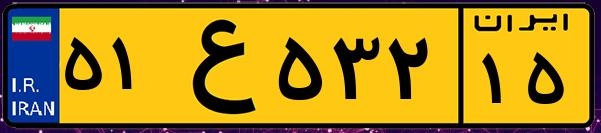1: (475, 38, 525, 113), (110, 28, 158, 98)
2: (385, 28, 445, 110)
3: (330, 28, 385, 110)
5: (270, 28, 330, 110), (57, 26, 110, 100), (525, 38, 570, 115)
ع: (158, 12, 270, 120)
